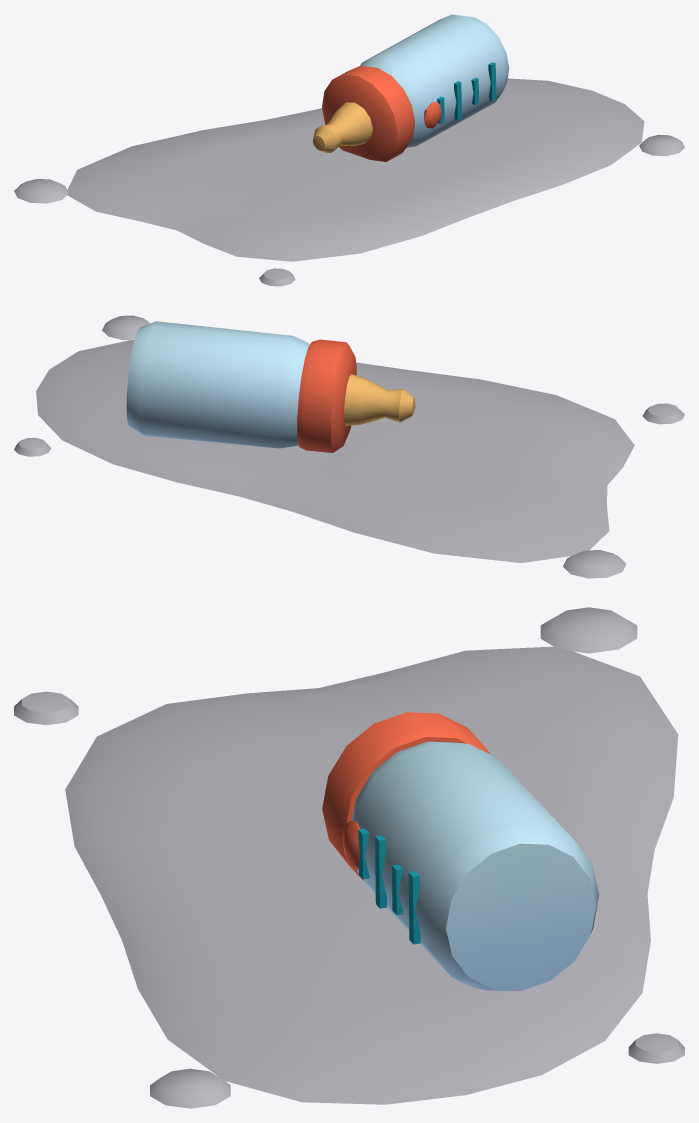
Rendered from hz_milk_puddle.glb.
3 renders of one model, top to bottom at view 1: azimuth 30°, elevation 25°; view 2: azimuth 150°, elevation 25°; view 3: azimuth 270°, elevation 25°, orthographic. The views are drawn at different scales.
Parts seen in each view (by area): view 1: hz_milk_puddle; view 2: hz_milk_puddle; view 3: hz_milk_puddle.
Part boxes in pixels (x1,y1,x2,y2): hz_milk_puddle: [14, 14, 684, 286]; hz_milk_puddle: [14, 315, 684, 578]; hz_milk_puddle: [14, 607, 684, 1108].
Bounding box in the file's own units: 1.39 × 0.2286 × 0.7913.
